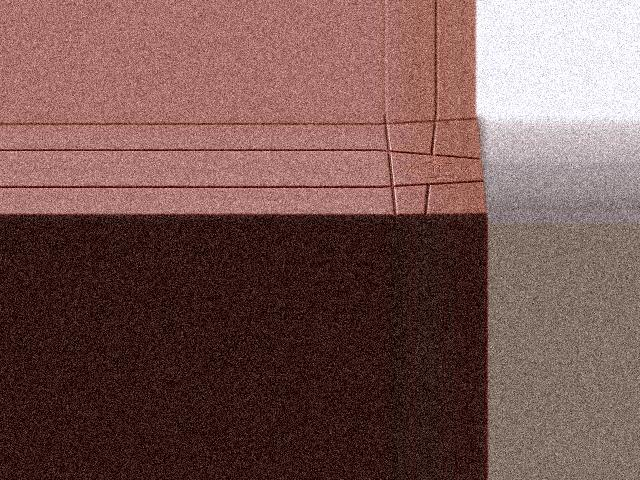chocolate: (377, 113, 489, 219)
